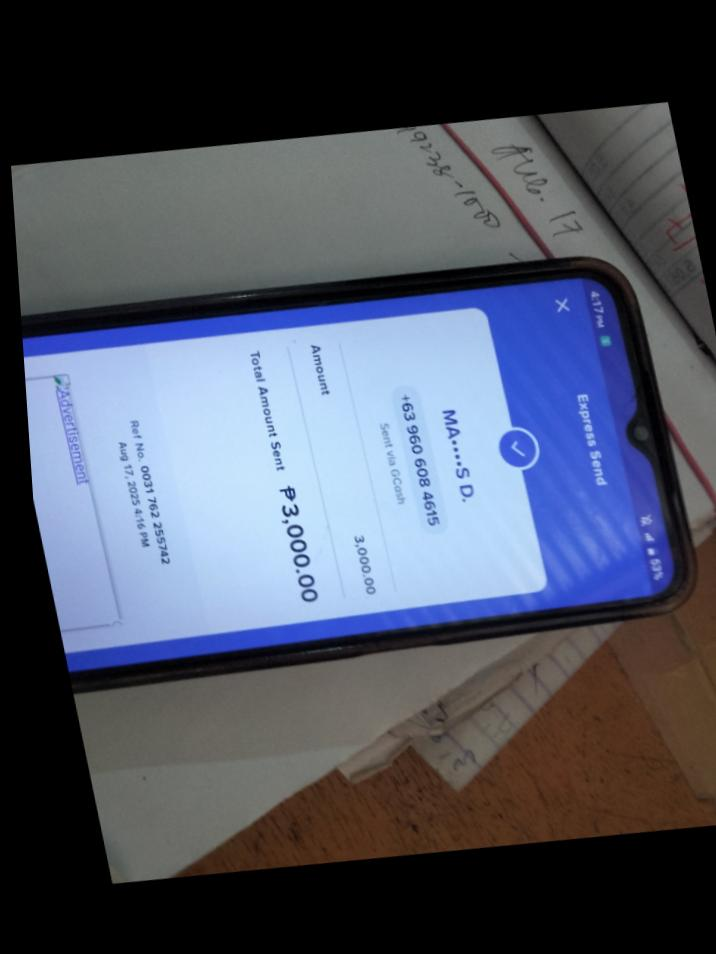Receipt: (22, 276, 651, 669)
